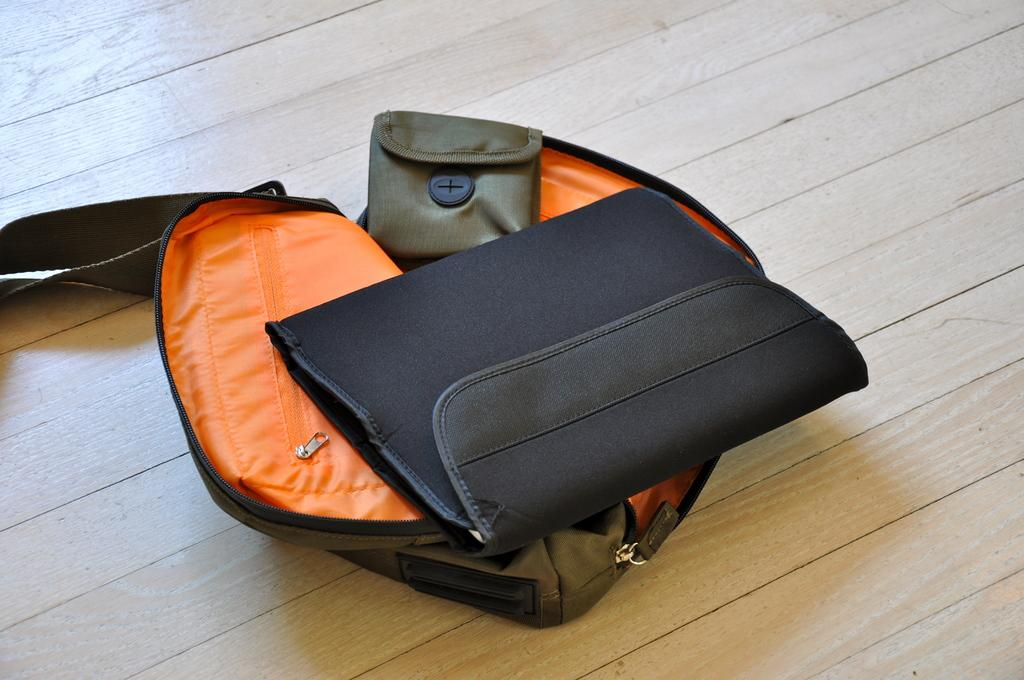Luggage-and-bags: (0, 115, 762, 627)
